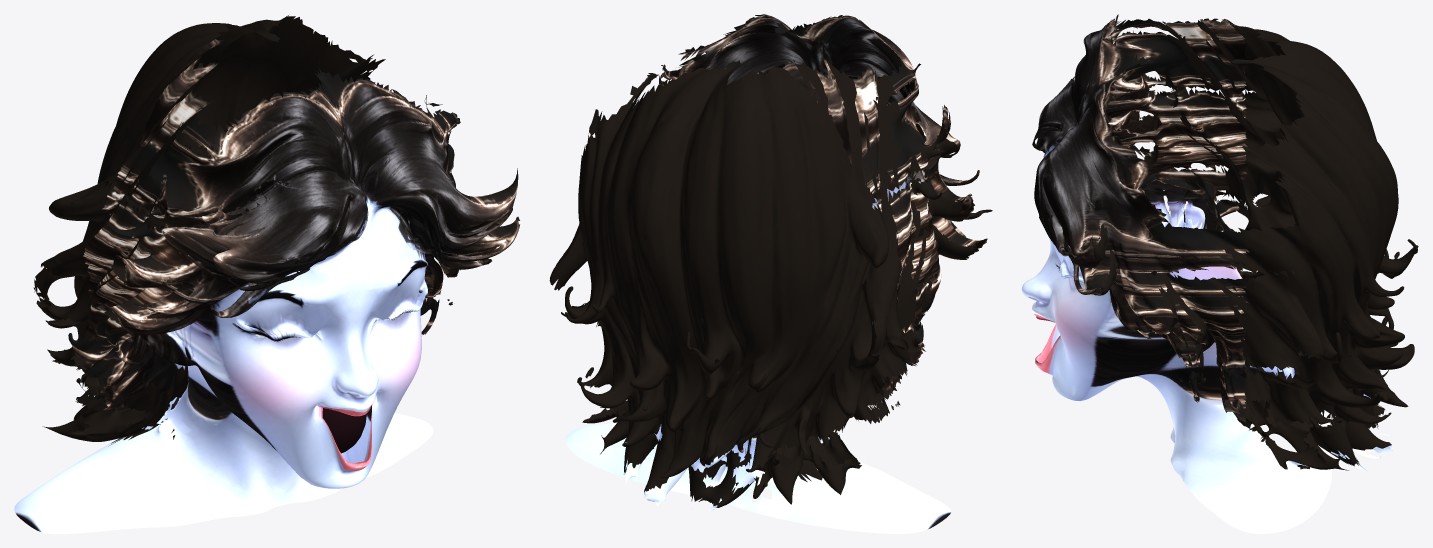
Rendered from krishna.glb.
3 renders of one model, left to right at view 1: azimuth 30°, elevation 25°; view 2: azimuth 150°, elevation 25°; view 3: azimuth 270°, elevation 25°, orthographic. The views are drawn at different scales.
Visible parts, largest first — view 1: Krishna_face, Krishna_mouth_interior; view 2: Krishna_face; view 3: Krishna_face.
Boxes of the visible parts, x1,y1,x2,y2 form: Krishna_face: [14, 15, 519, 533]; Krishna_mouth_interior: [322, 408, 366, 453]; Krishna_face: [549, 14, 992, 533]; Krishna_face: [1021, 14, 1418, 533].
Size of the model in its own units: 0.5804 by 0.6008 by 0.5267.
Materials: 9 (3 with a texture image).
